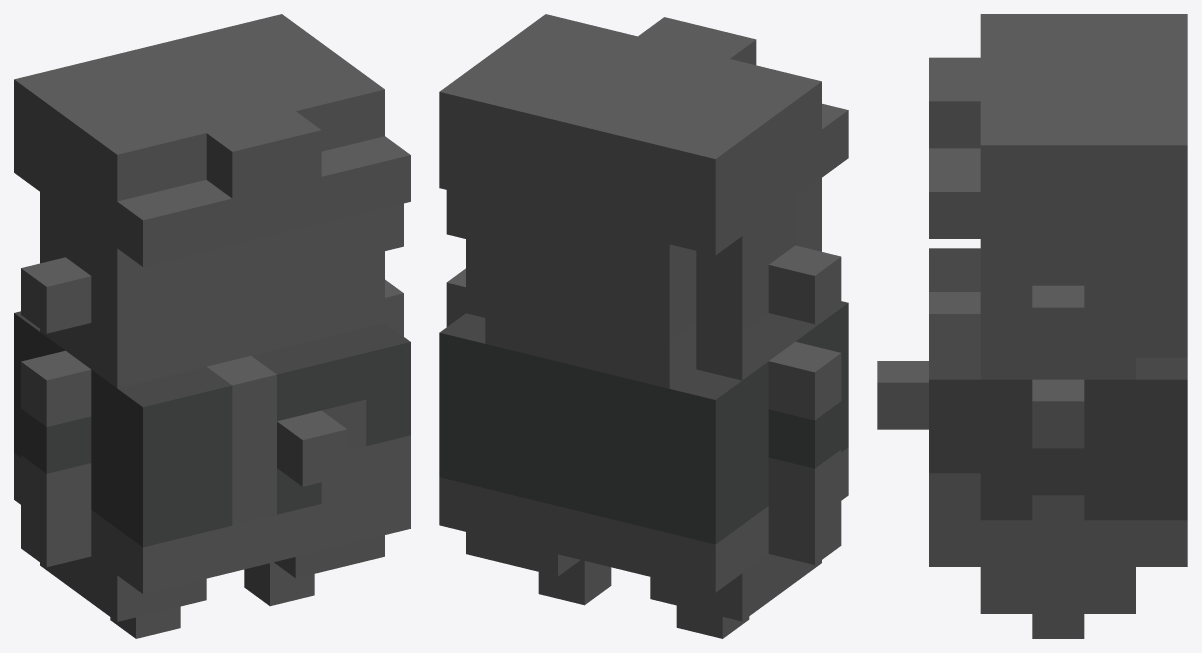
Rendered from chr_cop1.obj.
3 views of the same model, side by side, from view 1: azimuth 30°, elevation 25°; view 2: azimuth 150°, elevation 25°; view 3: azimuth 270°, elevation 25° (orthographic). The views are drawn at different scales.
Bounding box in the file's own units: 8 × 11 × 6.
